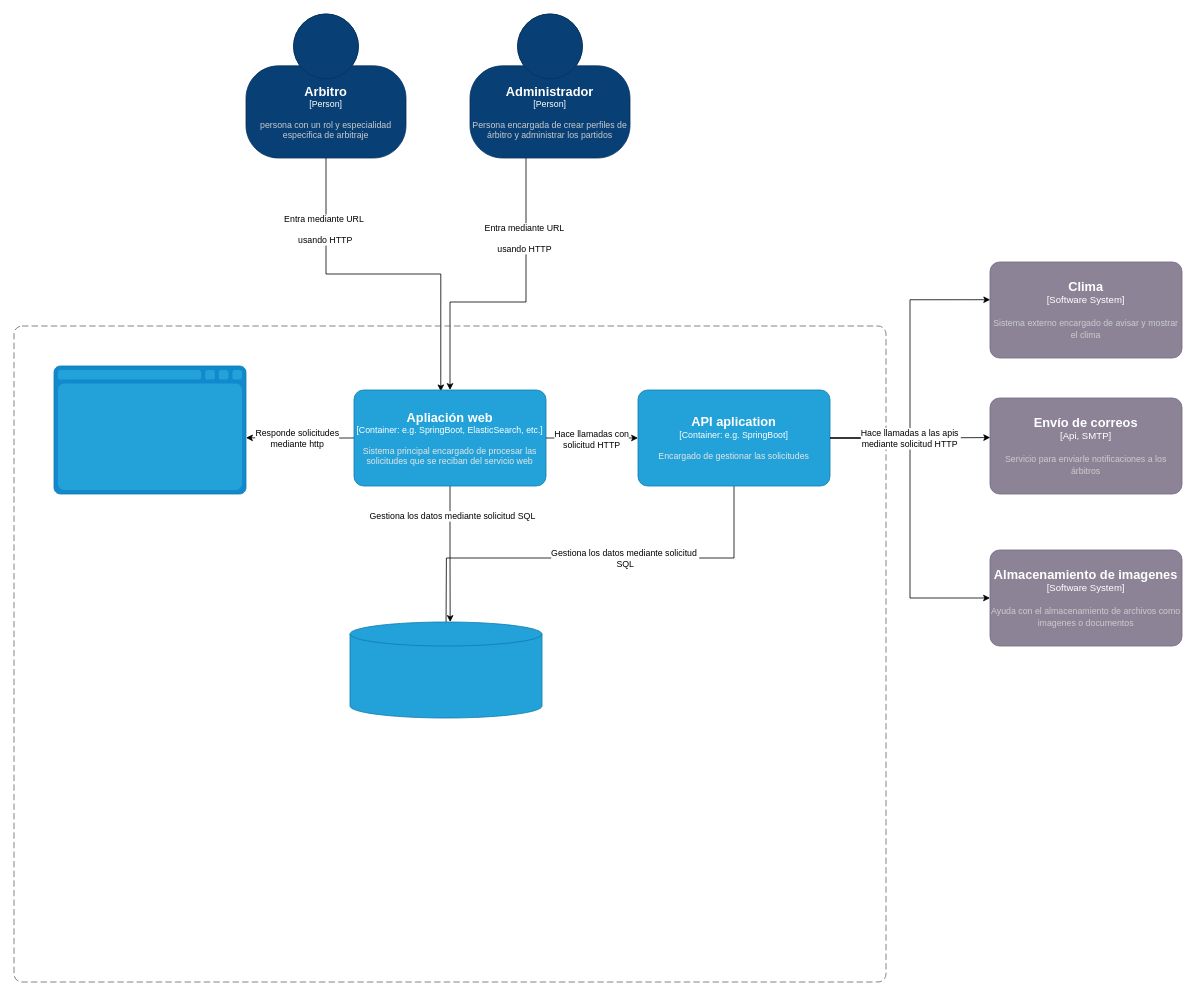
Image size: 1196x996. Some labels were removed from this diagram. Each missing label, with the box of its shape:
BD [Container: e.g. Mysql] Guarda los datos de la aplicacion web: (349, 621, 542, 718)
CABA [Software System]: (13, 325, 886, 982)
Servicio web de CABA [Container: React] Parte visual de la pagina web: (53, 365, 246, 494)
